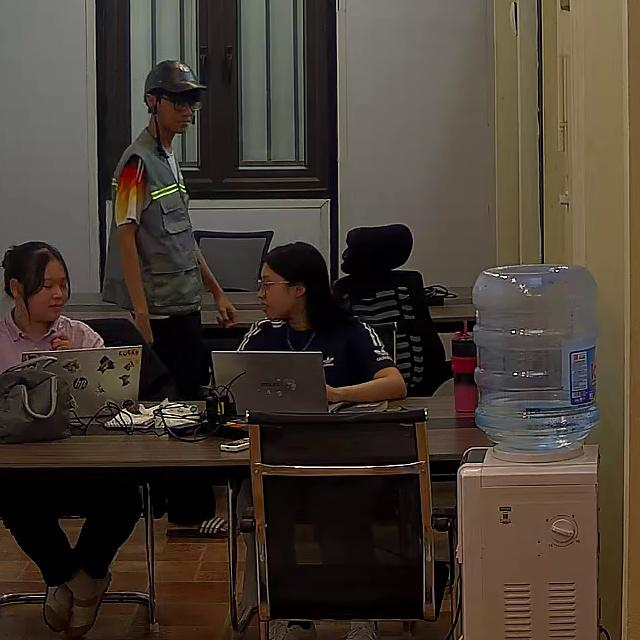helmet: (143, 59, 208, 99)
no_helmet: (263, 240, 352, 330), (1, 240, 69, 314)
none: (234, 315, 395, 397), (0, 307, 102, 384)
vest: (102, 128, 205, 313)
